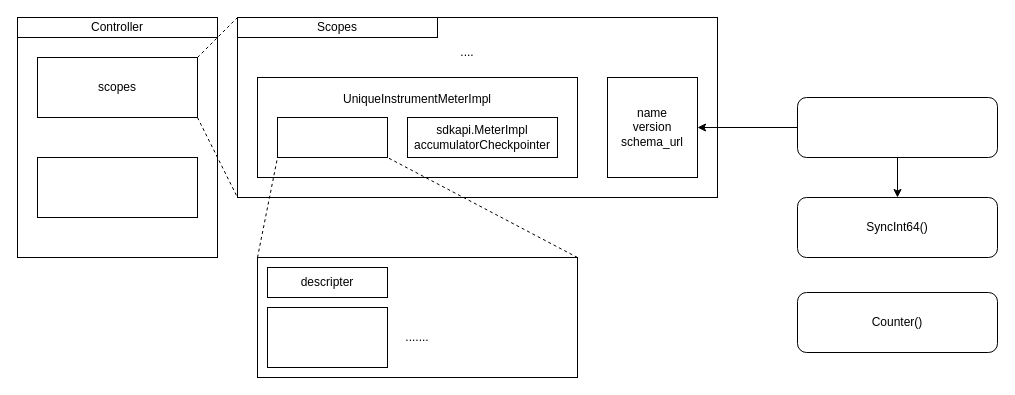
The diagram is 1015 pixels wide and 395 high, and some of its shapes have lost their labels. The centre of each missing label's shape, as x and y in pixels:
"exporter" goes at (x=117, y=187).
"Meter()" goes at (x=897, y=127).
"states" goes at (x=332, y=137).
"syncInstrument" goes at (x=327, y=337).
